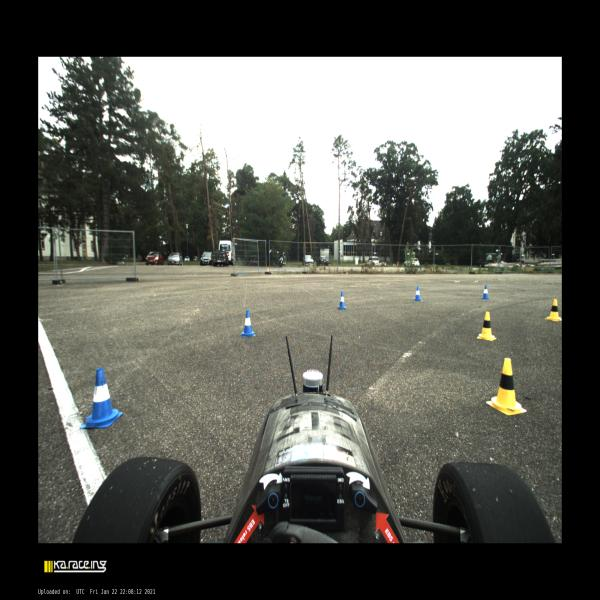blue_cone: (79, 368, 123, 429), (240, 310, 256, 337), (337, 291, 347, 310), (413, 286, 422, 301), (482, 285, 490, 299)
yellow_cone: (486, 358, 527, 415), (477, 312, 496, 341), (544, 299, 562, 321)
